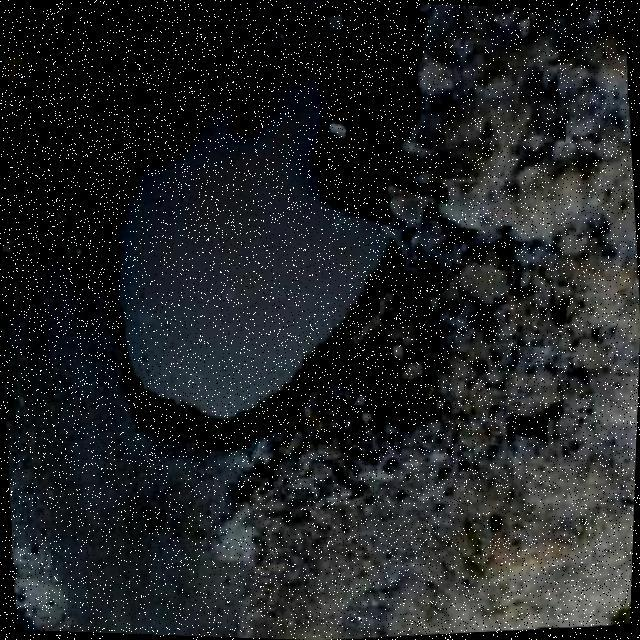Pothole: (113, 72, 400, 442)
